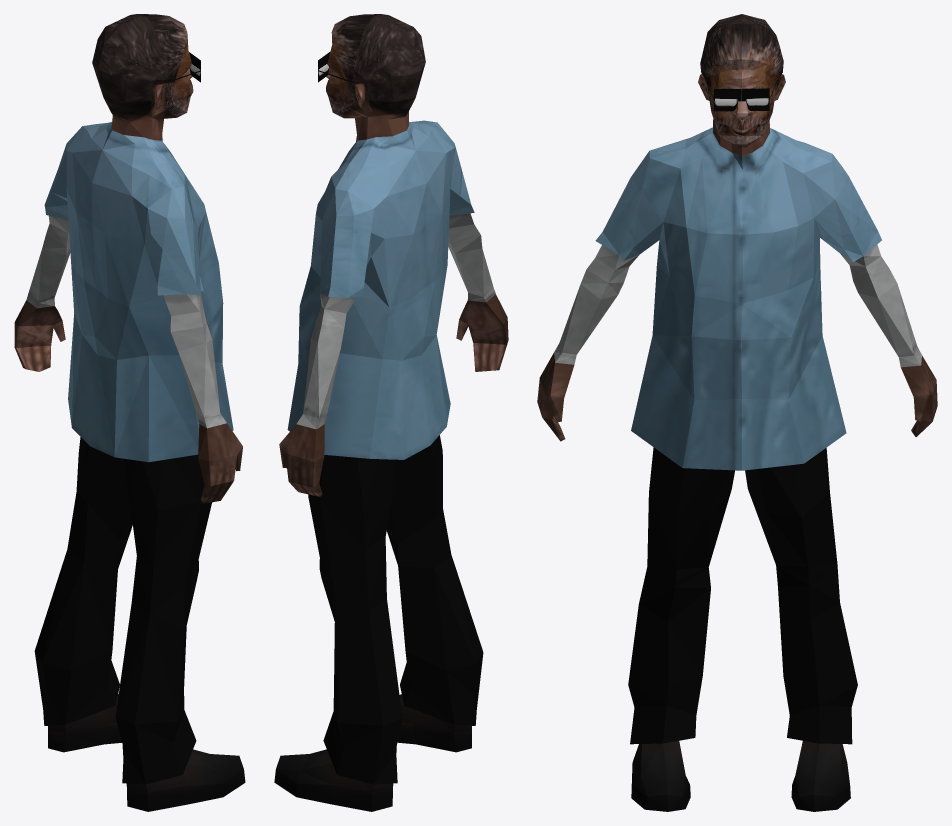
File: bmobar.obj
The picture shows the model from 3 angles, left to right: view 1: azimuth 30°, elevation 25°; view 2: azimuth 150°, elevation 25°; view 3: azimuth 270°, elevation 25°; orthographic projection. The views are drawn at different scales.
Visible parts, largest first — view 1: _Pelvis; view 2: _Pelvis; view 3: _Pelvis.
Boxes of the visible parts, x1=… form: _Pelvis: x1=14, y1=14, x2=245, y2=811; _Pelvis: x1=274, y1=14, x2=508, y2=811; _Pelvis: x1=537, y1=14, x2=937, y2=811.
Bounding box in the file's own units: 0.3711 × 1.9 × 0.902.
Materials: 2 (2 with a texture image).
